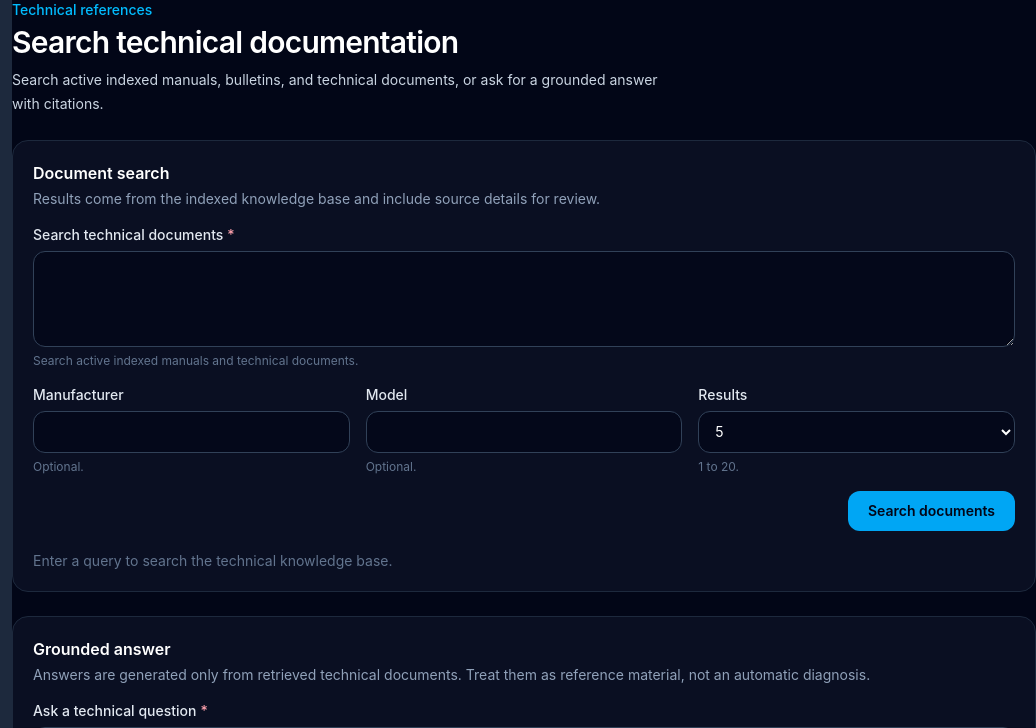
it: technical references search documents and request cited answers
Expected: the heading "Search technical documentation" is shown, top-left (12, 24), bottom-right (458, 60)
Step 1. Type "  inverter DC isolator  " into the text box labelled "Search technical documents*" → point(524, 299), box top-left (33, 251), bottom-right (1015, 347)
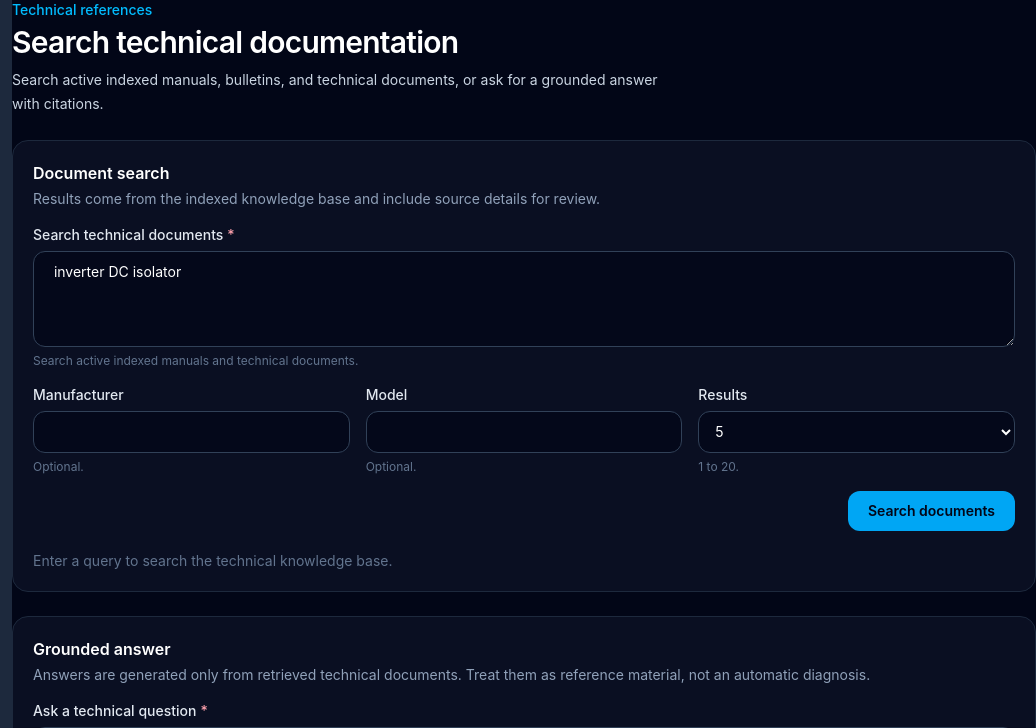
Step 2. Click the button "Search documents" → point(932, 511), box top-left (848, 491), bottom-right (1015, 531)
(page scrolled)
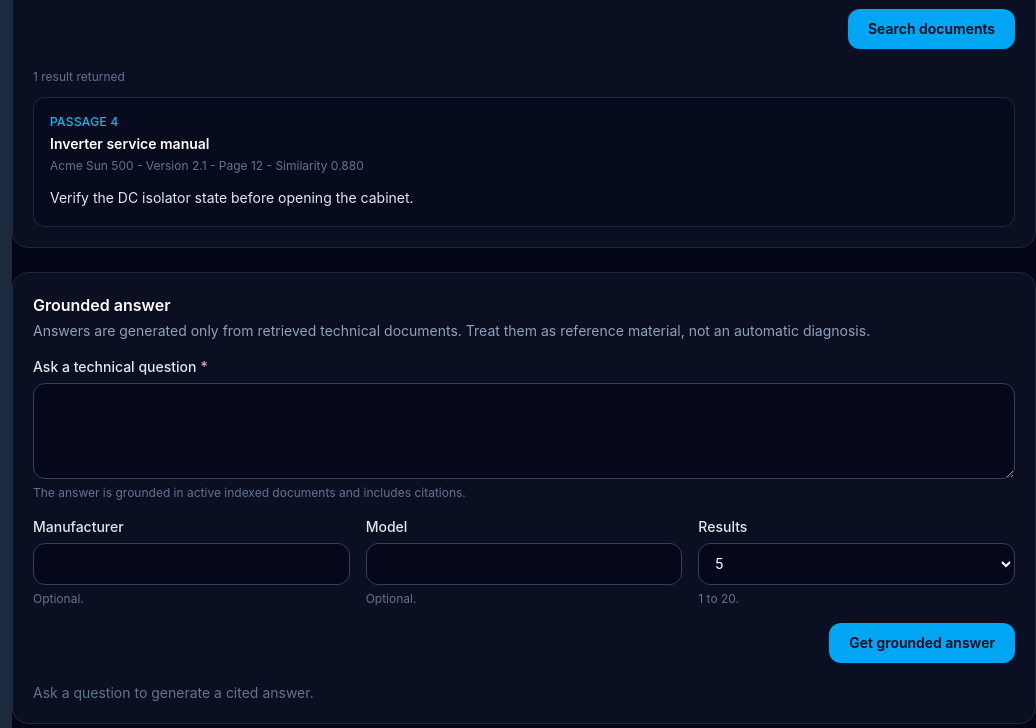
Now the heading "Inverter service manual" is shown, box top-left (50, 135), bottom-right (210, 152)
Now the text "Verify the DC isolator state before opening the cabinet." is shown, box top-left (50, 189), bottom-right (414, 206)
Step 3. Type "How do I check the DC isolator?" into the text box labelled "Ask a technical question*" → point(524, 431), box top-left (33, 383), bottom-right (1015, 479)
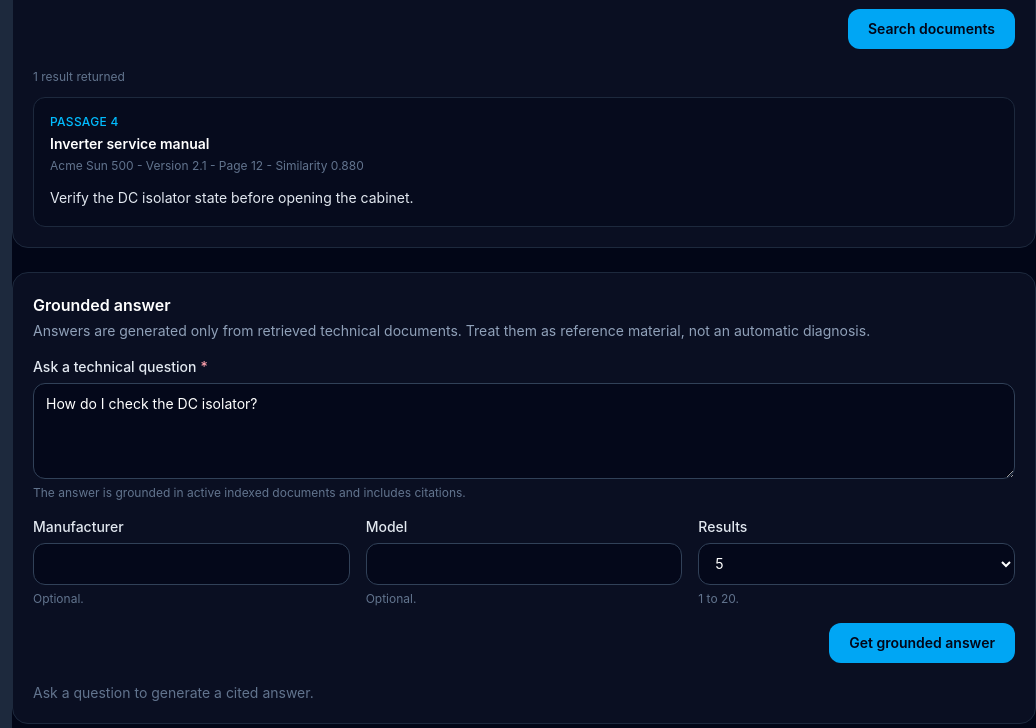
Step 4. Click the button "Get grounded answer" → point(922, 643), box top-left (829, 623), bottom-right (1015, 663)
(page scrolled)
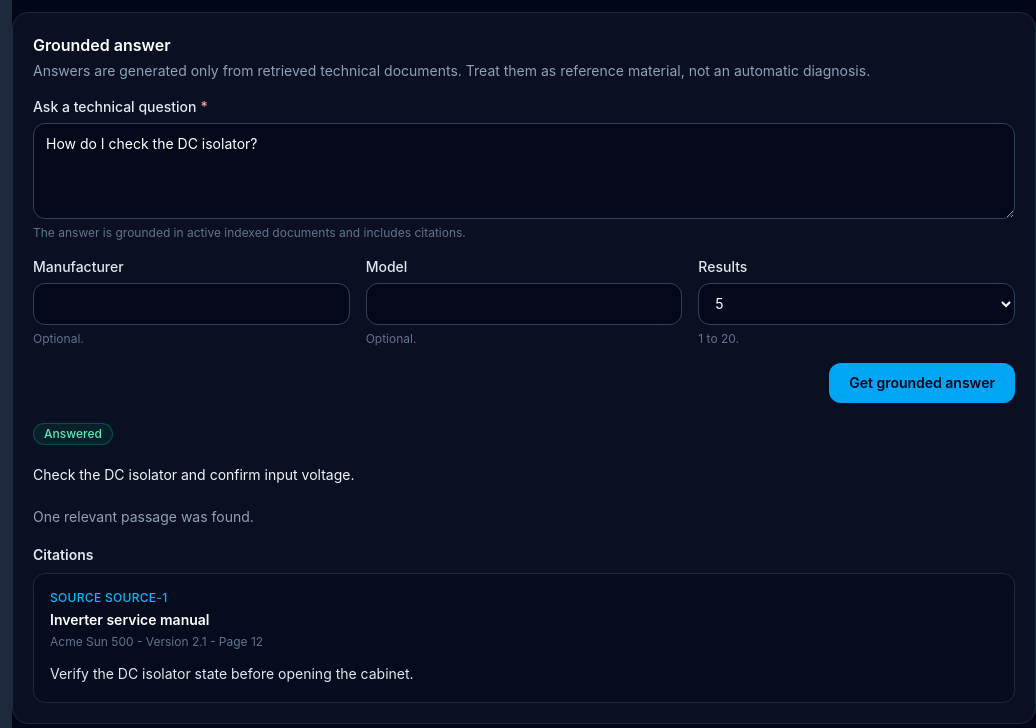
Now the text "Check the DC isolator and confirm input voltage." is shown, box top-left (33, 466), bottom-right (354, 483)
Now the text "One relevant passage was found." is shown, box top-left (33, 508), bottom-right (254, 525)
Now the text "Source source-1" is shown, box top-left (50, 590), bottom-right (168, 605)
